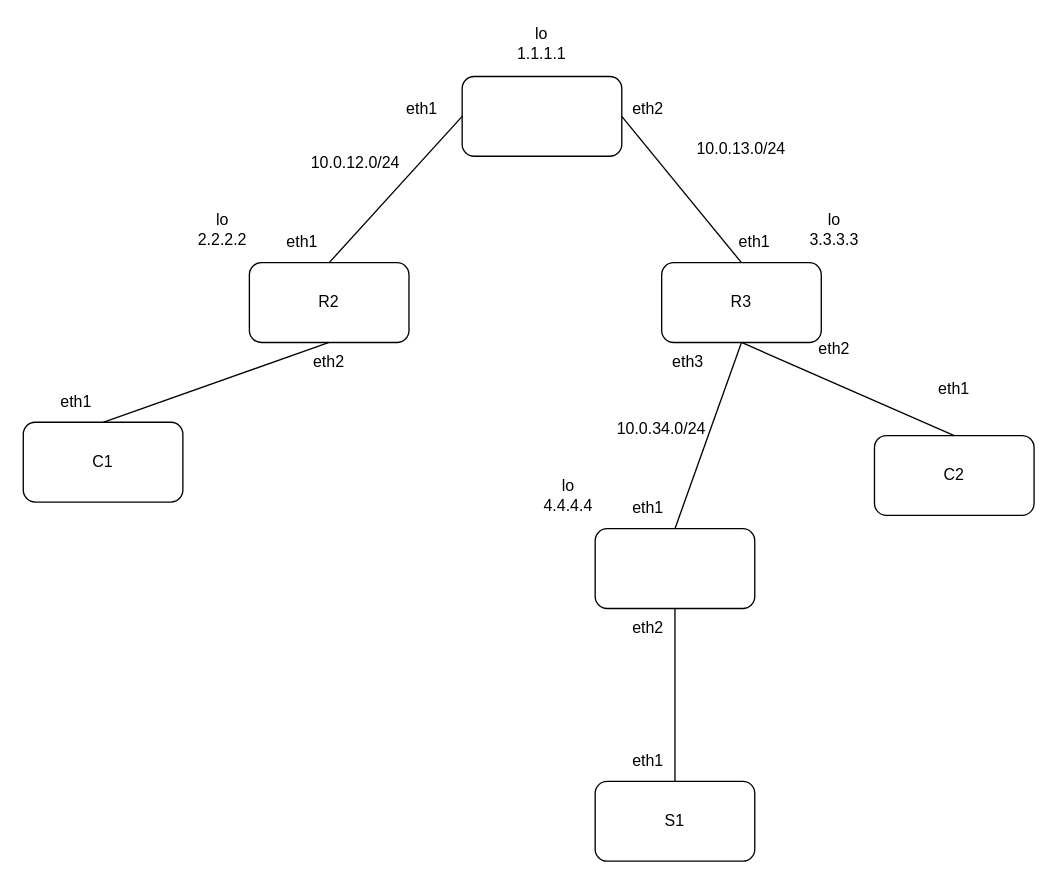
Some shapes in this 1057 by 884 pixel diagram are drawn without their labels. Each missing label, with the centre of its shape:
R1: [541,115]
R4: [674,567]
